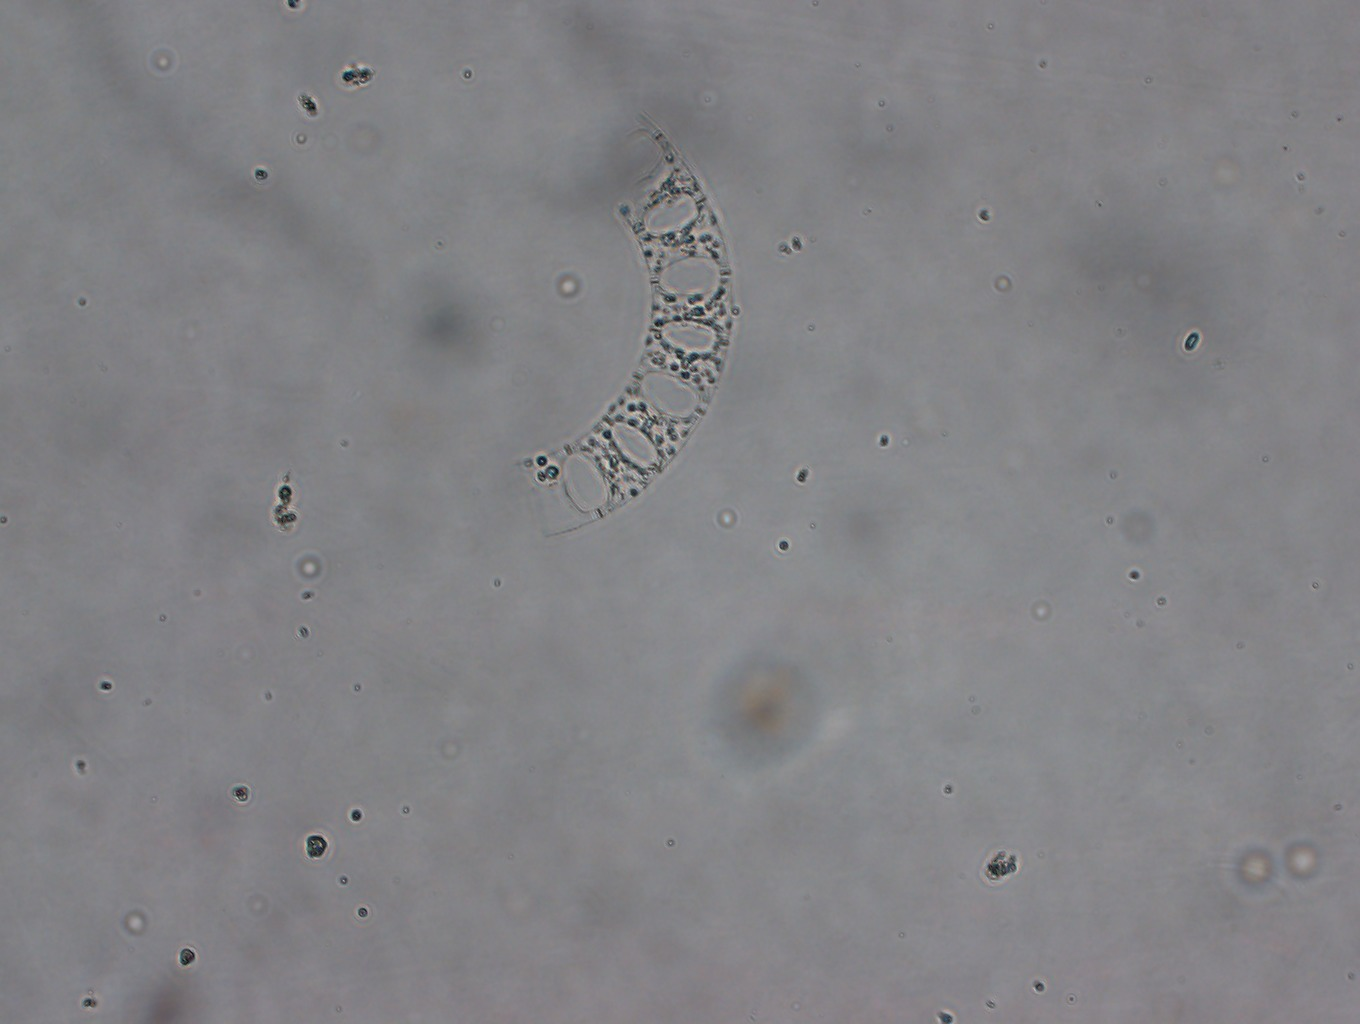eucampia: (515, 114, 733, 540)
